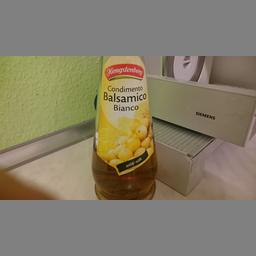vinegar: (90, 55, 158, 199)
